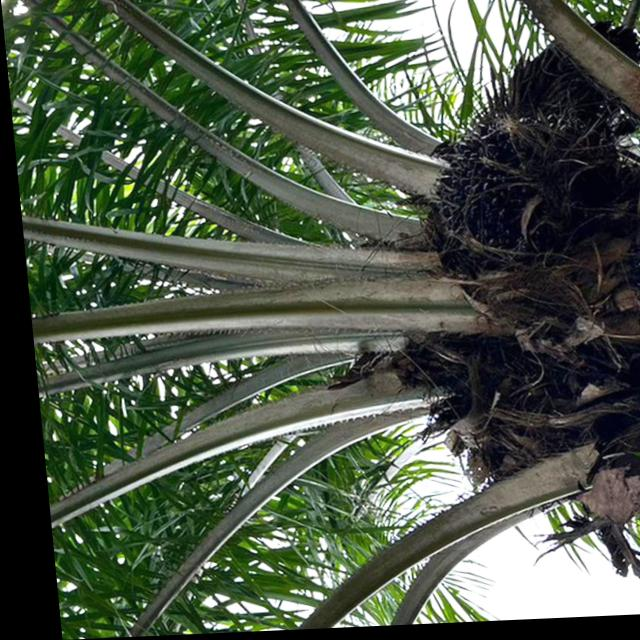almost: (425, 129, 574, 287)
